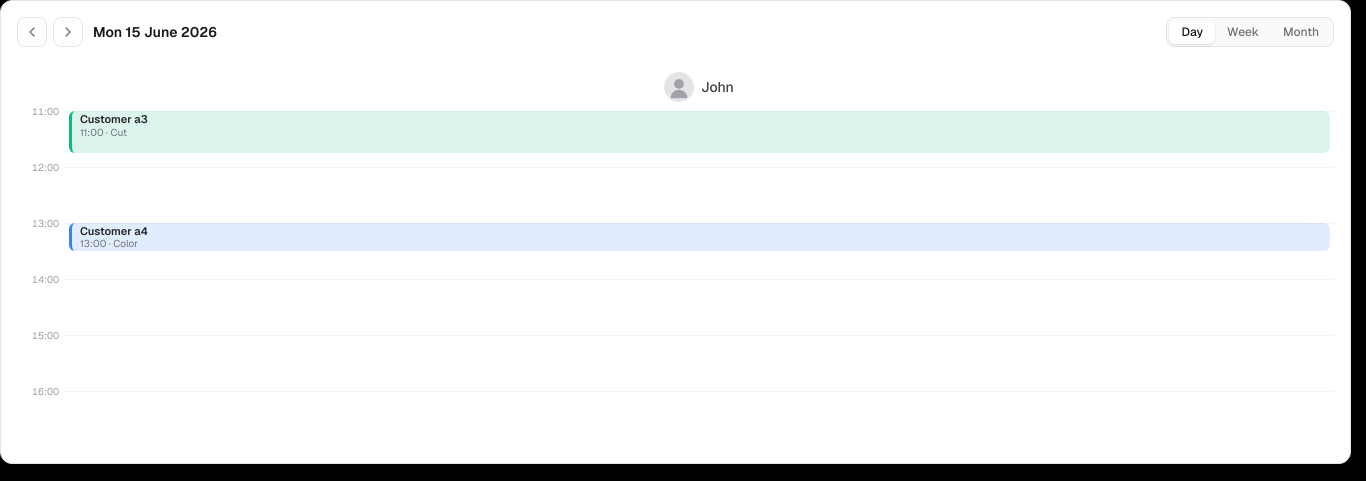
Scenario: CalendarWidget › switches to Week view when the Week toggle is clicked
Click the button "week": (1243, 32) [1215,20,1271,44]
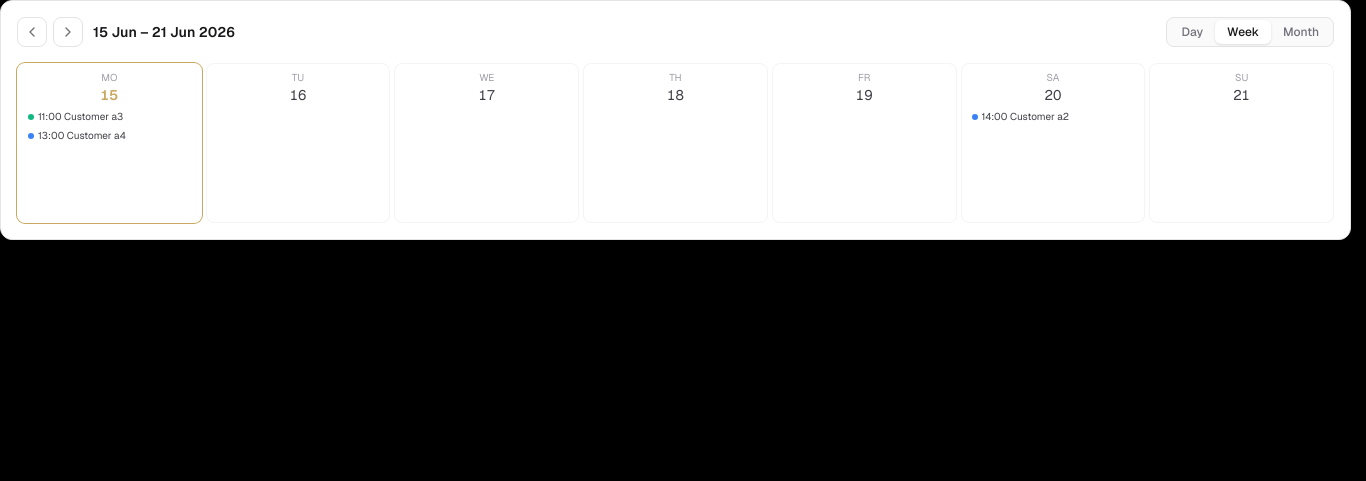
Expected: the element with test id "calendar-week-view" is shown, [17,63,1334,223]
